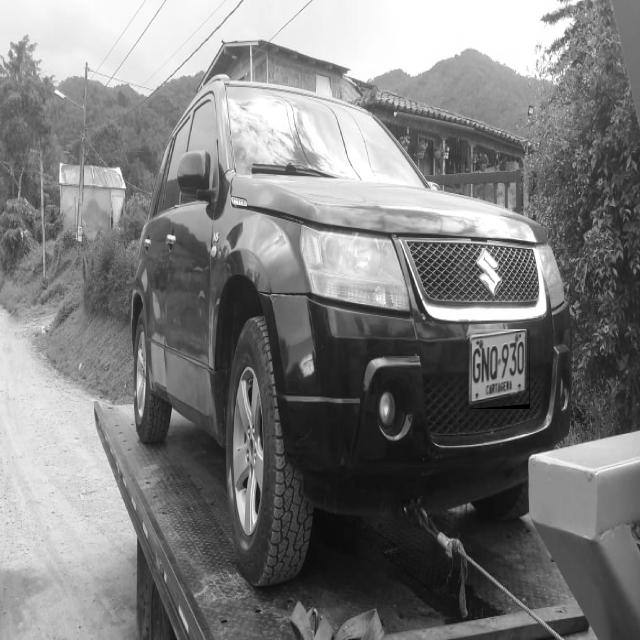plate: (468, 329, 530, 409)
